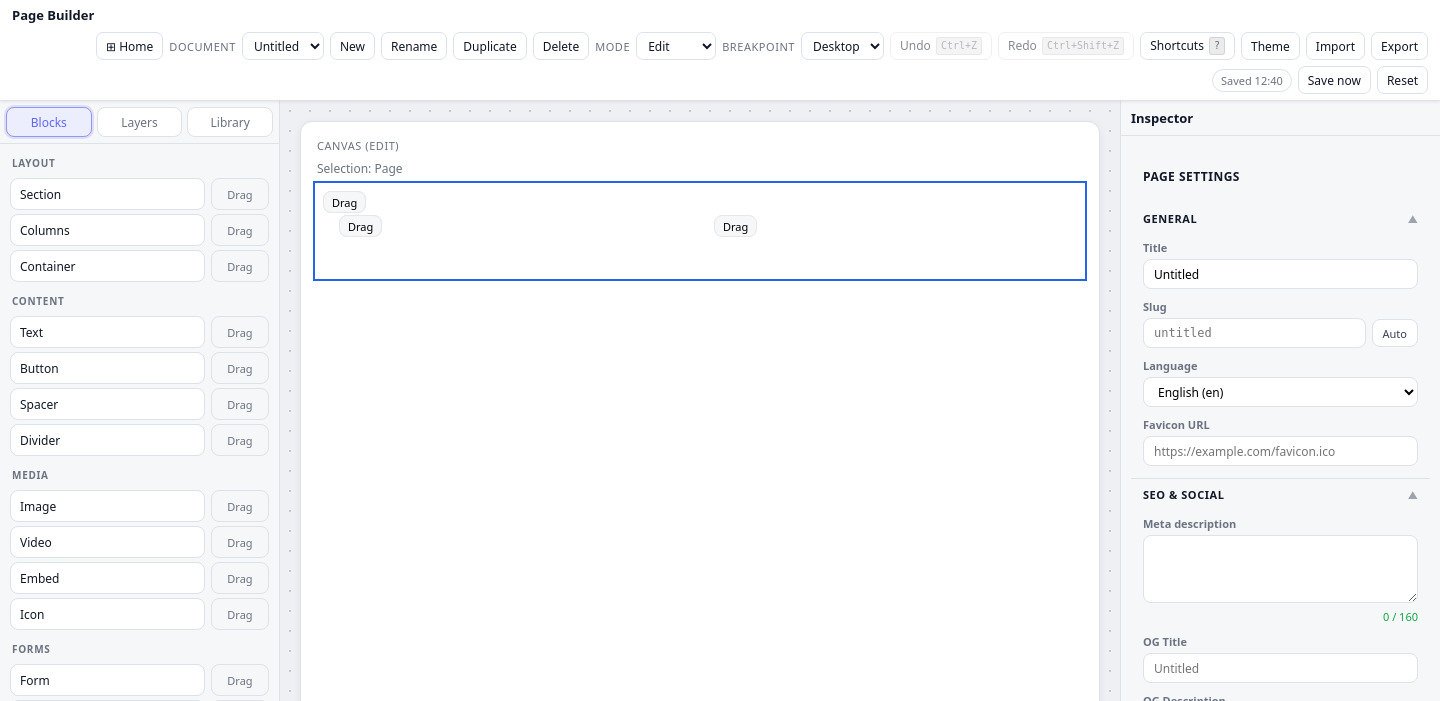
Test: PageBuilder integration › shows a storage quota banner when saving fails with QuotaExceededError
Step 1. Click the button "Save now" → click(1334, 80), box [1298, 66, 1371, 94]
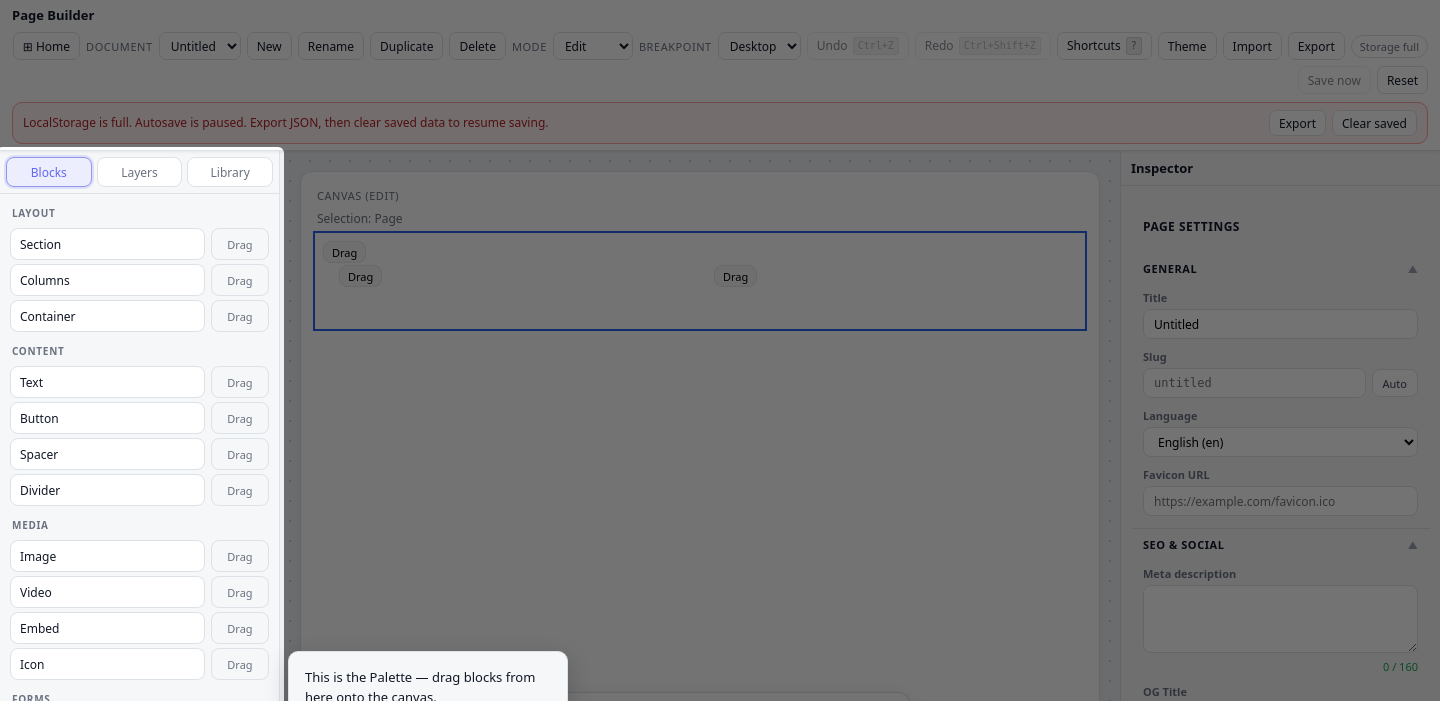
Expected: the message named "Storage status" is shown, [12, 102, 1428, 144]
Expected: the text "LocalStorage is full" is shown, [23, 114, 548, 131]
